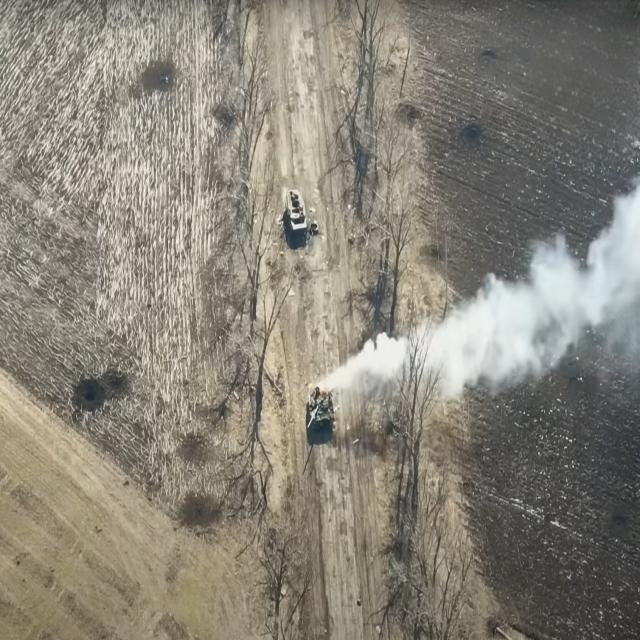Destroyed: (284, 188, 321, 244)
MBT: (306, 381, 335, 445)
